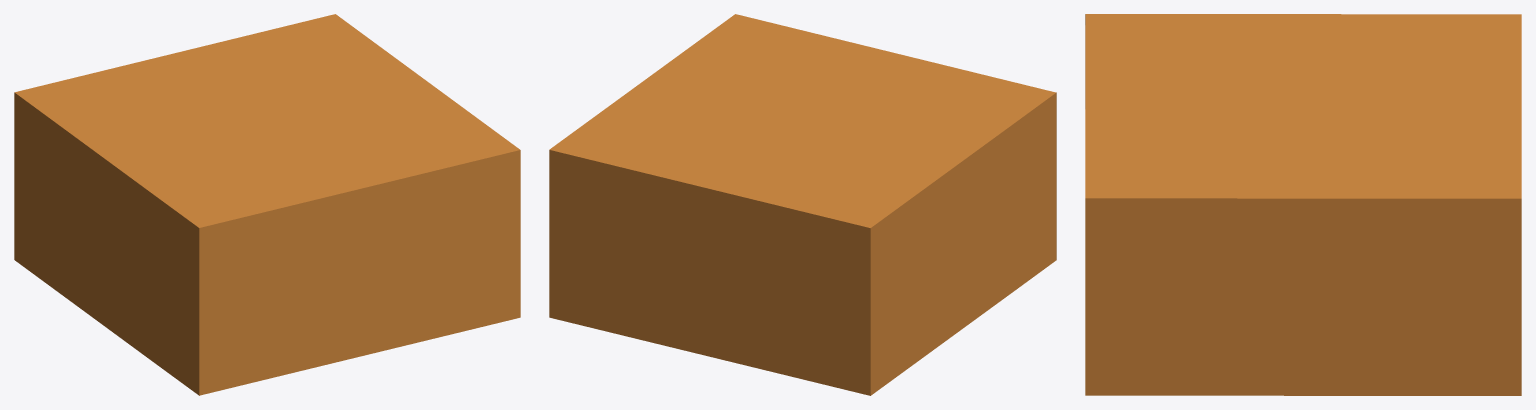
3 renders of one model, left to right at view 1: azimuth 30°, elevation 25°; view 2: azimuth 150°, elevation 25°; view 3: azimuth 270°, elevation 25°, orthographic. The views are drawn at different scales.
Parts seen in each view (by area): view 1: CORNER-B-44-p1; view 2: CORNER-B-44-p1; view 3: CORNER-B-44-p1.
Boxes of the visible parts, left/top/right/bottom form: CORNER-B-44-p1: left=14, top=14, right=520, bottom=395; CORNER-B-44-p1: left=549, top=14, right=1056, bottom=395; CORNER-B-44-p1: left=1085, top=14, right=1521, bottom=395.
Bounding box in the file's own units: 0.0903 × 0.045 × 0.0903.
